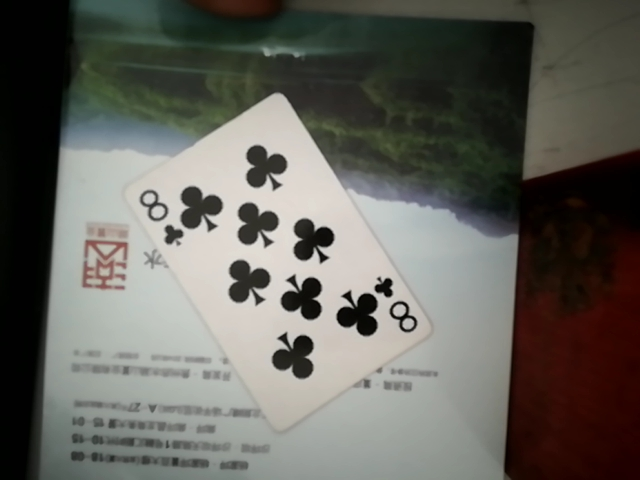mh 8: (107, 91, 434, 433)
